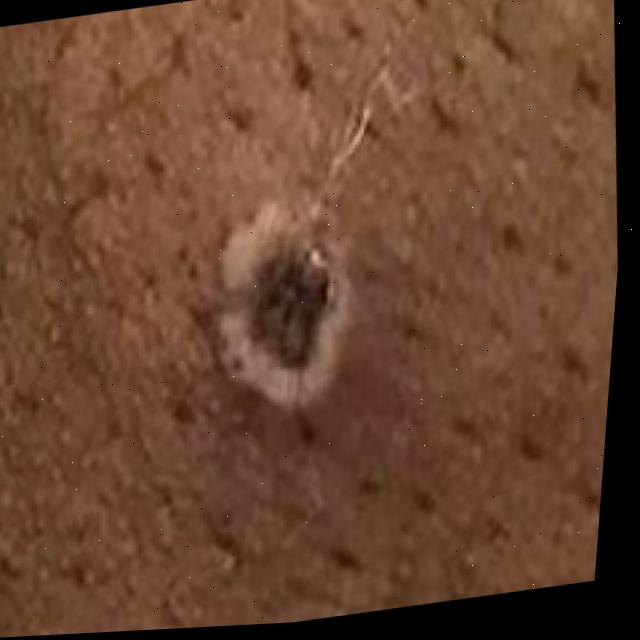Eczema: (175, 187, 364, 413)
